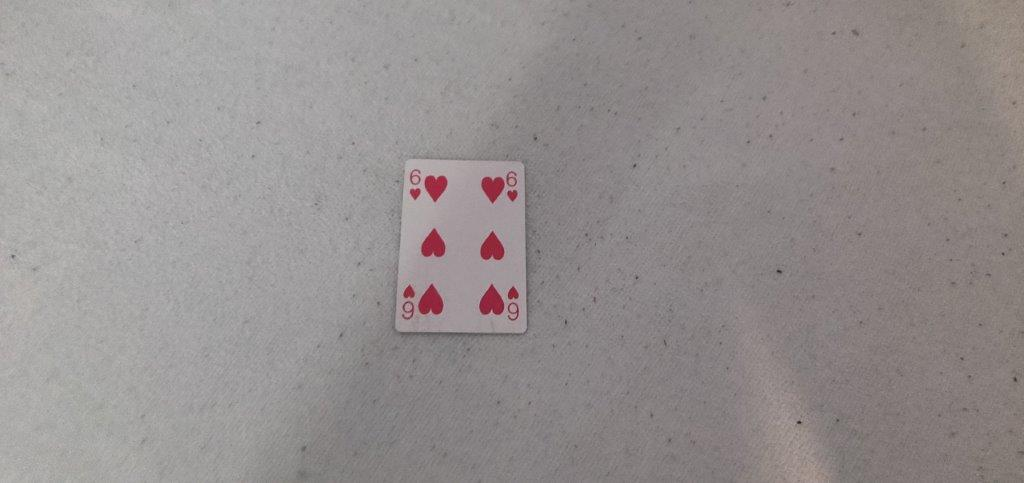6H: (404, 165, 423, 201), (505, 170, 522, 206)
